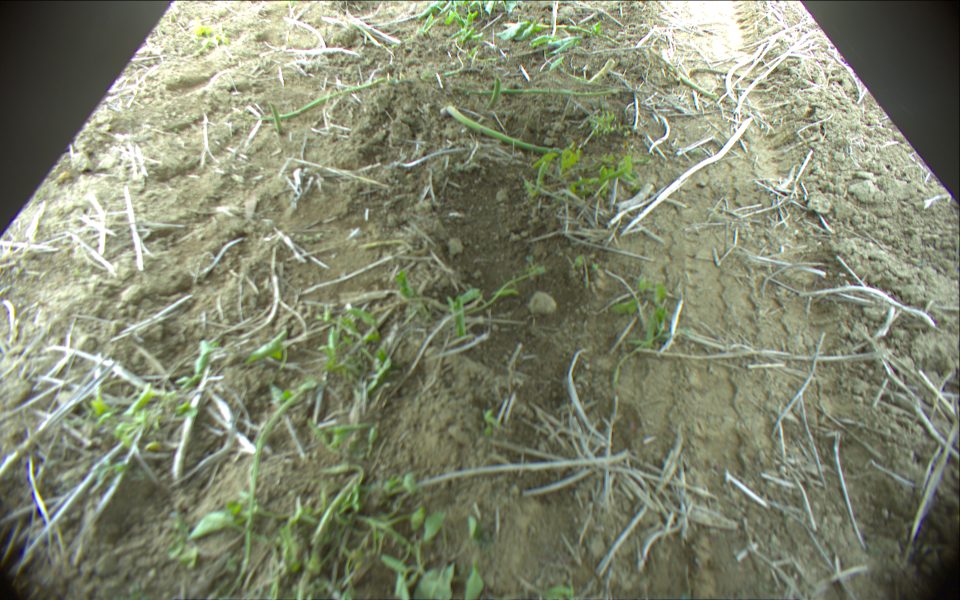aspa: (447, 103, 567, 154), (258, 77, 386, 122), (457, 85, 619, 98), (535, 22, 618, 44), (676, 68, 718, 100), (488, 78, 502, 108), (270, 106, 284, 134)
